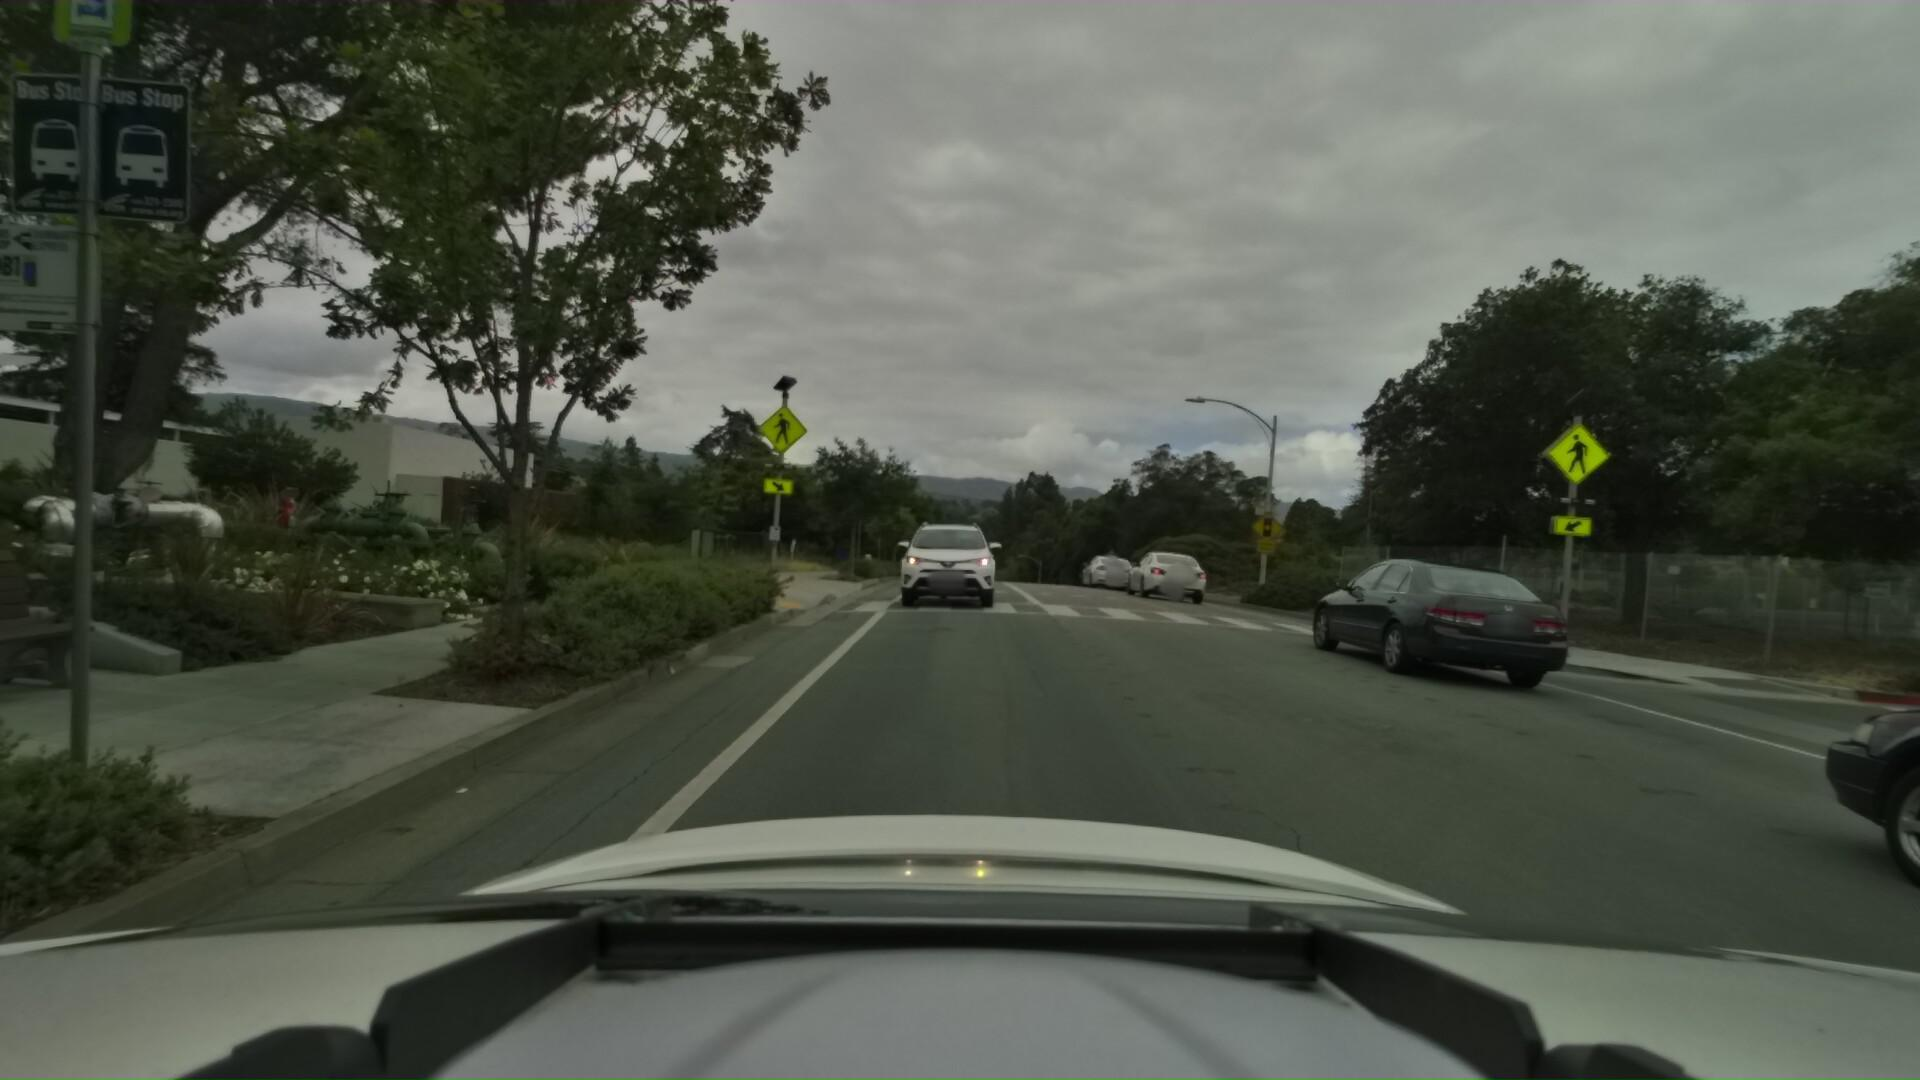car: (1770, 612, 1920, 1080), (1299, 553, 1588, 694), (895, 512, 1000, 609), (1124, 545, 1211, 603), (1077, 545, 1135, 589)
